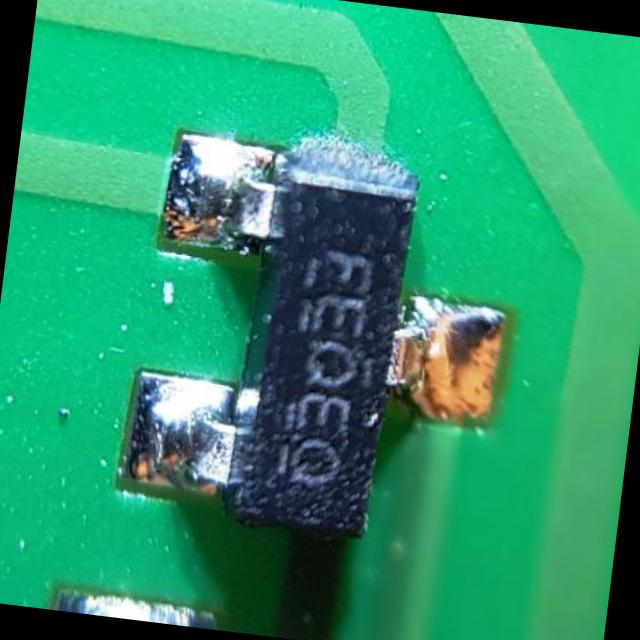transistor: (134, 112, 477, 560)
